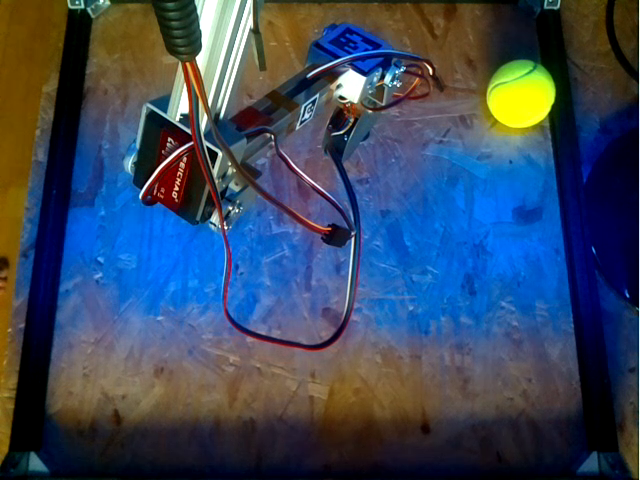tennis_ball: (486, 59, 557, 128)
